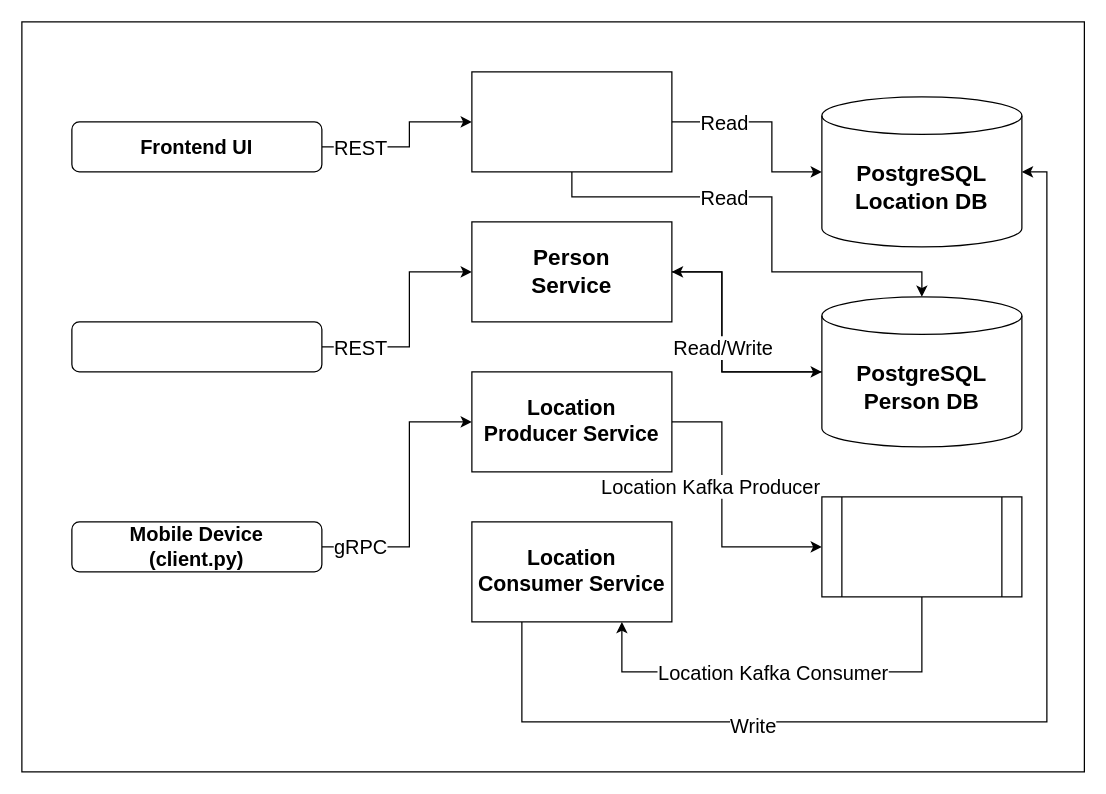
Image size: 1106x794. Some labels were removed from this diagram. The centre of each missing label's shape, as x and y in pixels:
"APIs (Browser/Postman)" goes at (196,346).
"Connection Service" goes at (571,121).
"Kafka" goes at (921,546).
